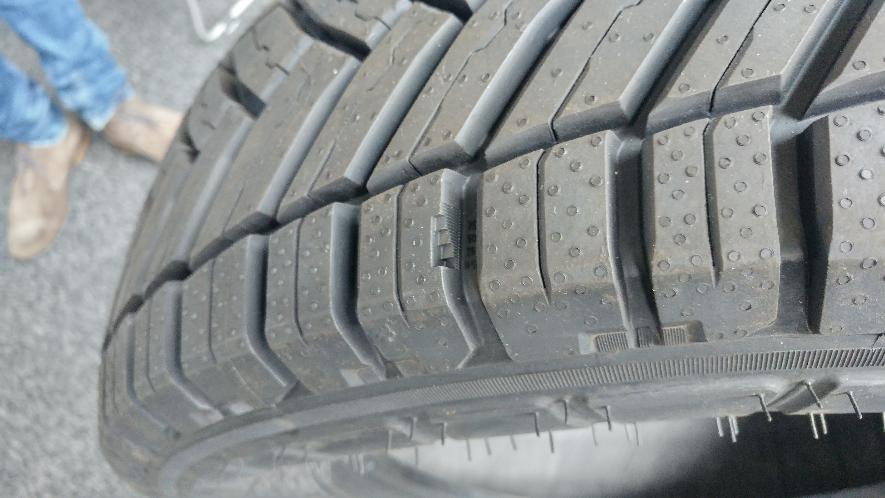temoin:100: (428, 200, 463, 273)
